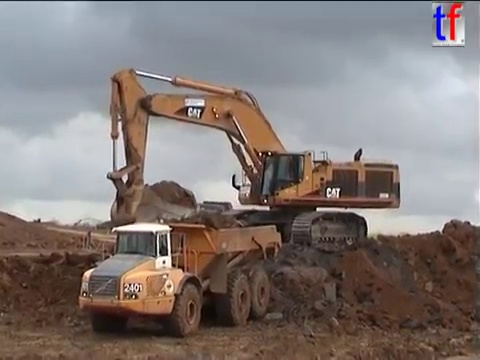excavator: (102, 65, 404, 254)
truck: (75, 218, 284, 339), (192, 198, 279, 243)
